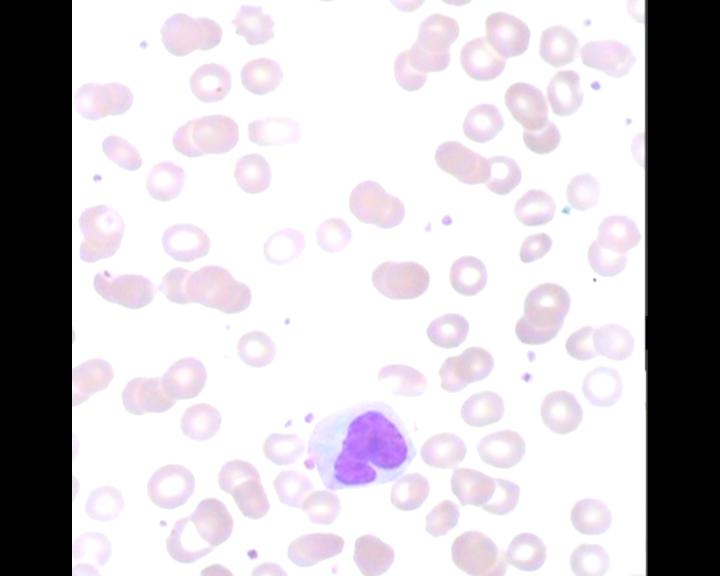mono: (300, 400, 420, 494)
